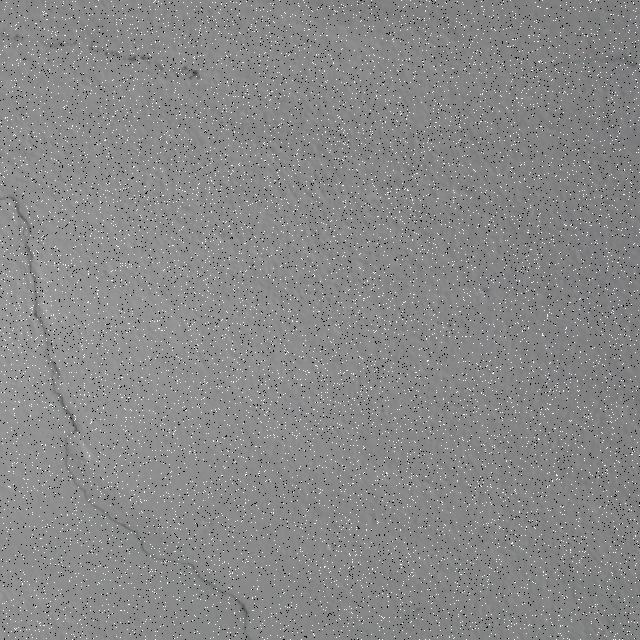moderate crack: (66, 454, 164, 555), (159, 546, 253, 630)
severe crack: (6, 192, 258, 634), (10, 200, 62, 392)
